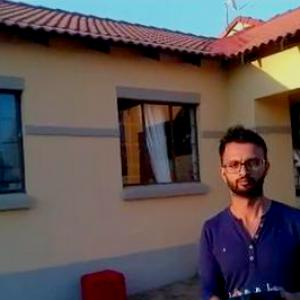follow: (196, 117, 299, 299)
